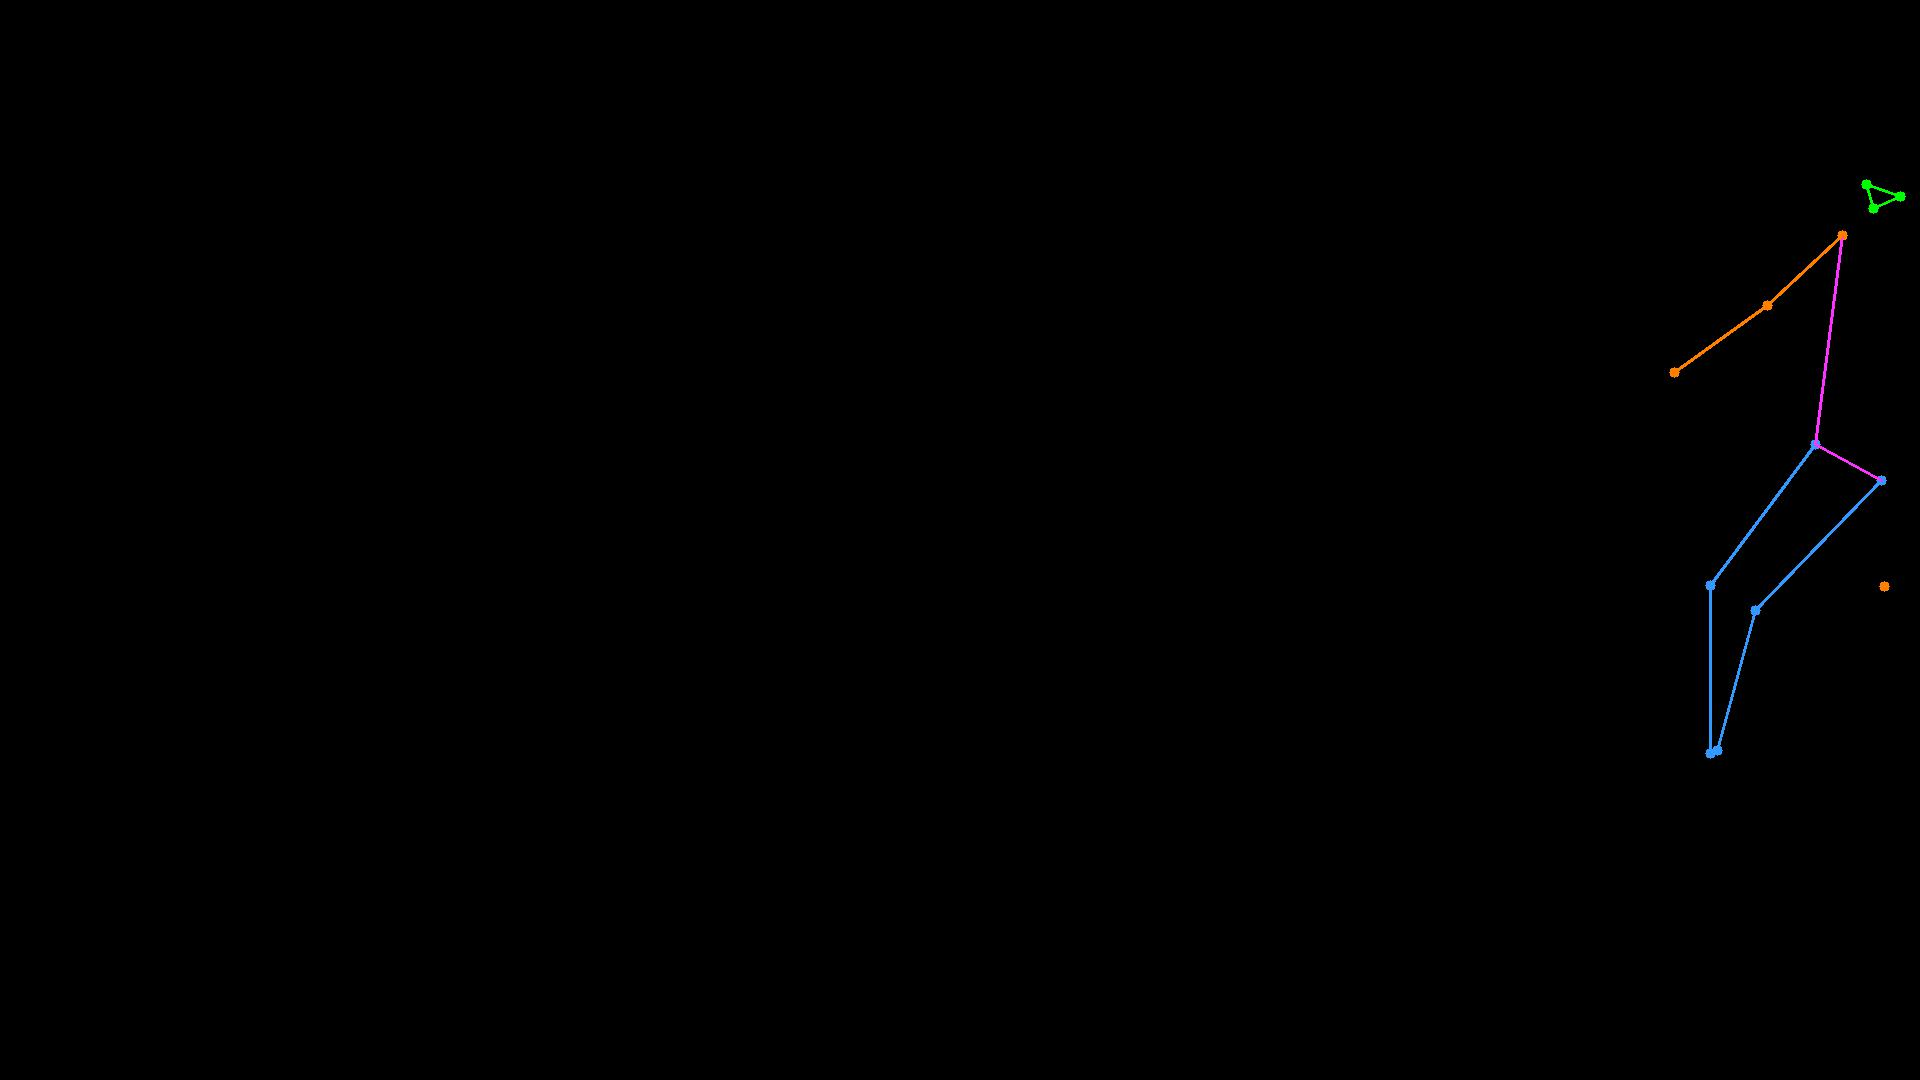normal: (1636, 154, 1920, 796)
